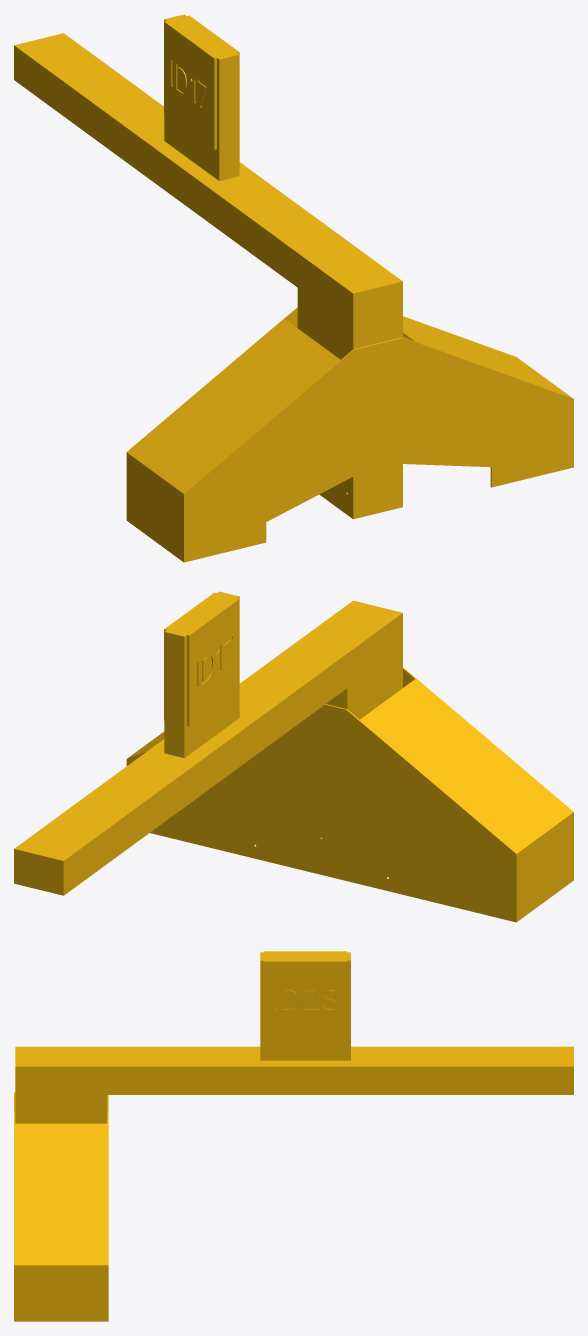
The model's file is BLOCK CAD FIELD - BLOCK CAD- TRENCH, FIXED, BLUE.gltf.
3 renders of one model, top to bottom at view 1: azimuth 30°, elevation 25°; view 2: azimuth 150°, elevation 25°; view 3: azimuth 270°, elevation 25°, orthographic. The views are drawn at different scales.
Visible parts, largest first — view 1: BLOCK CAD: TRENCH, FIXED, BLUE; view 2: BLOCK CAD: TRENCH, FIXED, BLUE; view 3: BLOCK CAD: TRENCH, FIXED, BLUE.
Part boxes in pixels (left/top/right/bottom): BLOCK CAD: TRENCH, FIXED, BLUE: left=14, top=14, right=573, bottom=562; BLOCK CAD: TRENCH, FIXED, BLUE: left=14, top=591, right=573, bottom=922; BLOCK CAD: TRENCH, FIXED, BLUE: left=14, top=951, right=573, bottom=1321.
Size of the model in its own units: 1.19 by 1.02 by 1.8.
